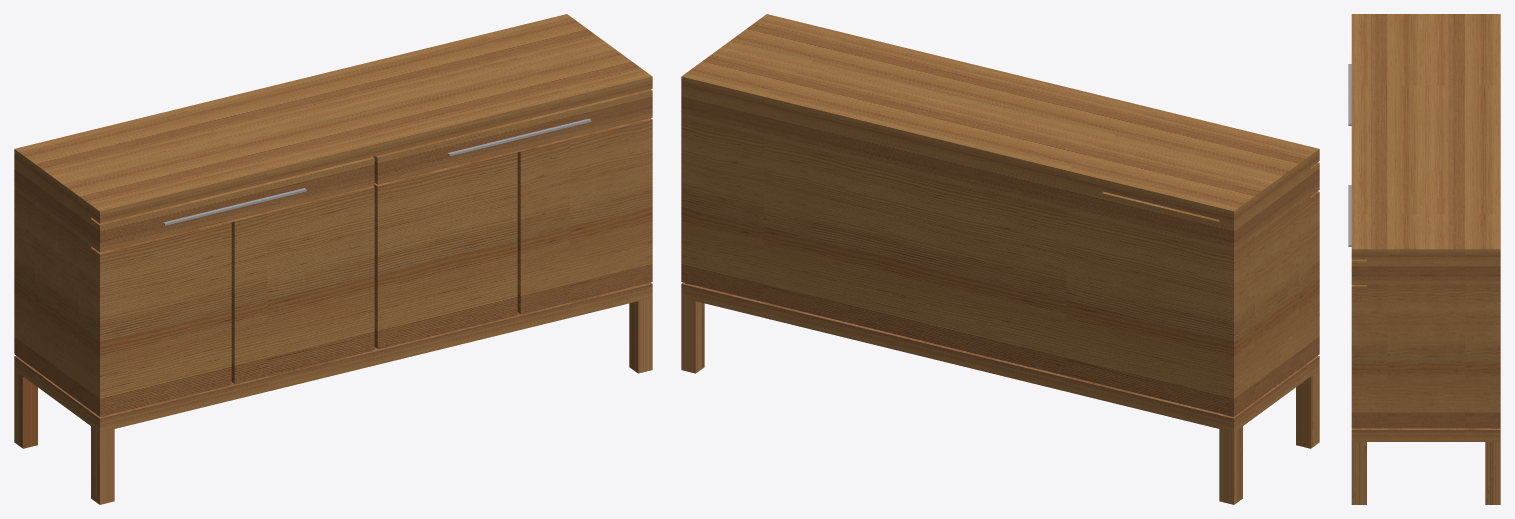
File: Buffet.FBX
3 renders of one model, left to right at view 1: azimuth 30°, elevation 25°; view 2: azimuth 150°, elevation 25°; view 3: azimuth 270°, elevation 25°, orthographic. The views are drawn at different scales.
Visible parts, largest first — view 1: Buffet; view 2: Buffet; view 3: Buffet.
Part boxes in pixels (x1=…): Buffet: x1=14, y1=14, x2=652, y2=504; Buffet: x1=681, y1=14, x2=1319, y2=504; Buffet: x1=1348, y1=14, x2=1500, y2=504.
Bounding box in the file's own units: 170 × 86.11 × 46.5.
2 materials, 1 textured.
